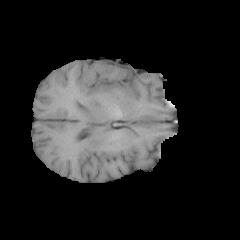glioma: (87, 68, 140, 111)
